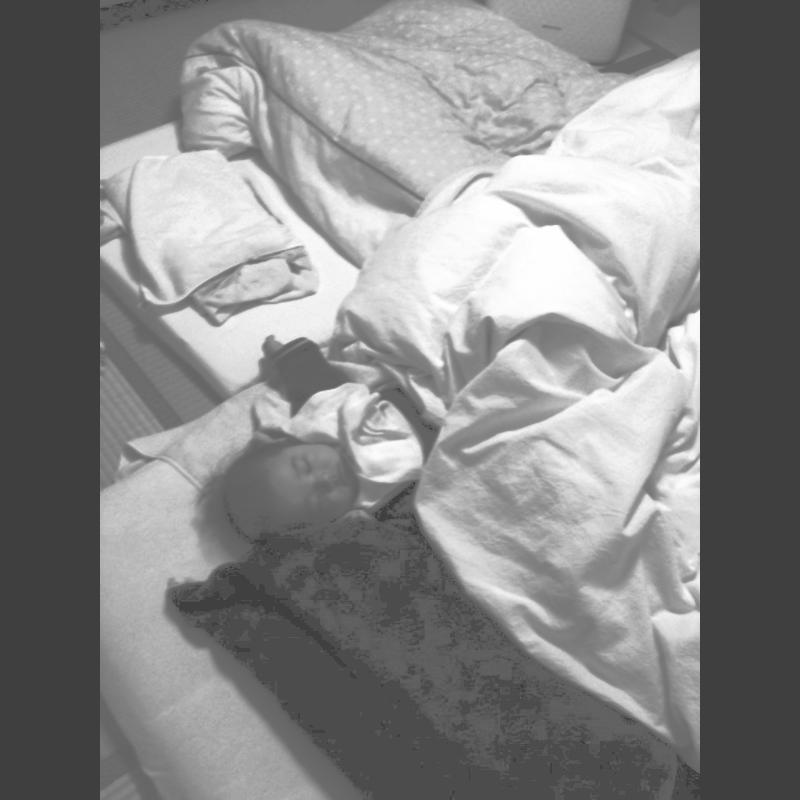pillow: (171, 392, 697, 798)
